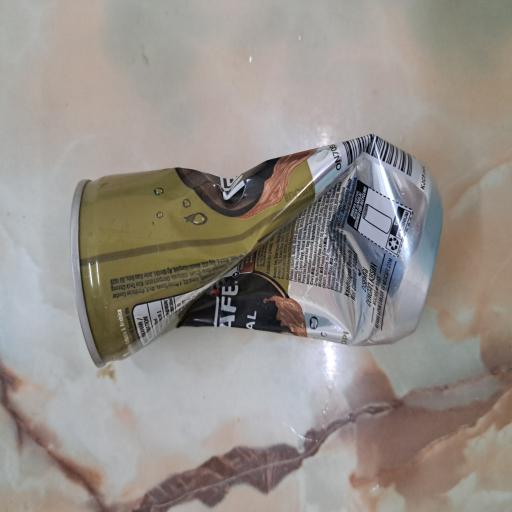can: (110, 92, 285, 512)
